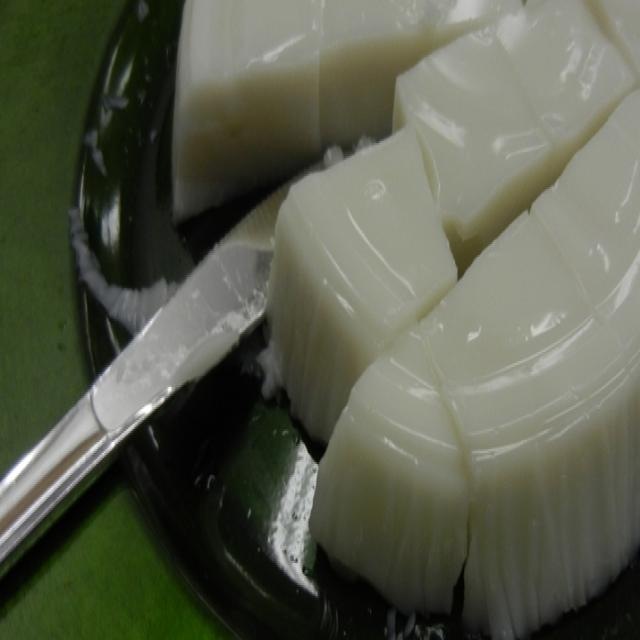蛋糕甜品: (22, 2, 626, 610)
